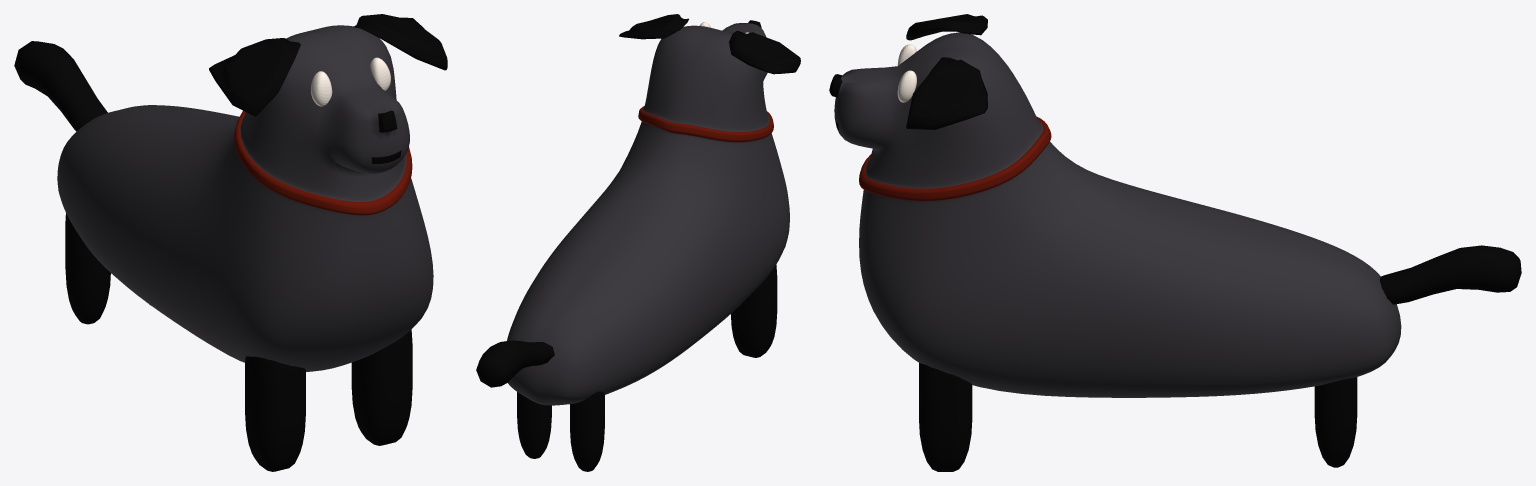
Rendered from ker.fbx.
3 renders of one model, left to right at view 1: azimuth 30°, elevation 25°; view 2: azimuth 150°, elevation 25°; view 3: azimuth 270°, elevation 25°, orthographic. The views are drawn at different scales.
Parts seen in each view (by area): view 1: ker, ker noga, ker noga 2, ker rep, ker noga yadnja; view 2: ker, ker noga, ker rep, ker noga yadnja, ker noga yadnja 2; view 3: ker, ker rep, ker noga 2, ker noga yadnja 2.
Boxes of the visible parts, x1,y1,x2,y2 form: ker: (57, 14, 447, 371); ker noga: (245, 356, 305, 471); ker noga 2: (351, 329, 412, 445); ker rep: (14, 41, 107, 131); ker noga yadnja: (65, 213, 110, 324); ker: (507, 14, 800, 405); ker noga: (731, 264, 777, 357); ker rep: (476, 340, 554, 387); ker noga yadnja: (570, 391, 604, 471); ker noga yadnja 2: (517, 392, 551, 458); ker: (829, 14, 1401, 397); ker rep: (1379, 245, 1521, 304); ker noga 2: (919, 363, 972, 471); ker noga yadnja 2: (1314, 377, 1357, 467).
Size of the model in its own units: 207 by 403 by 615.
